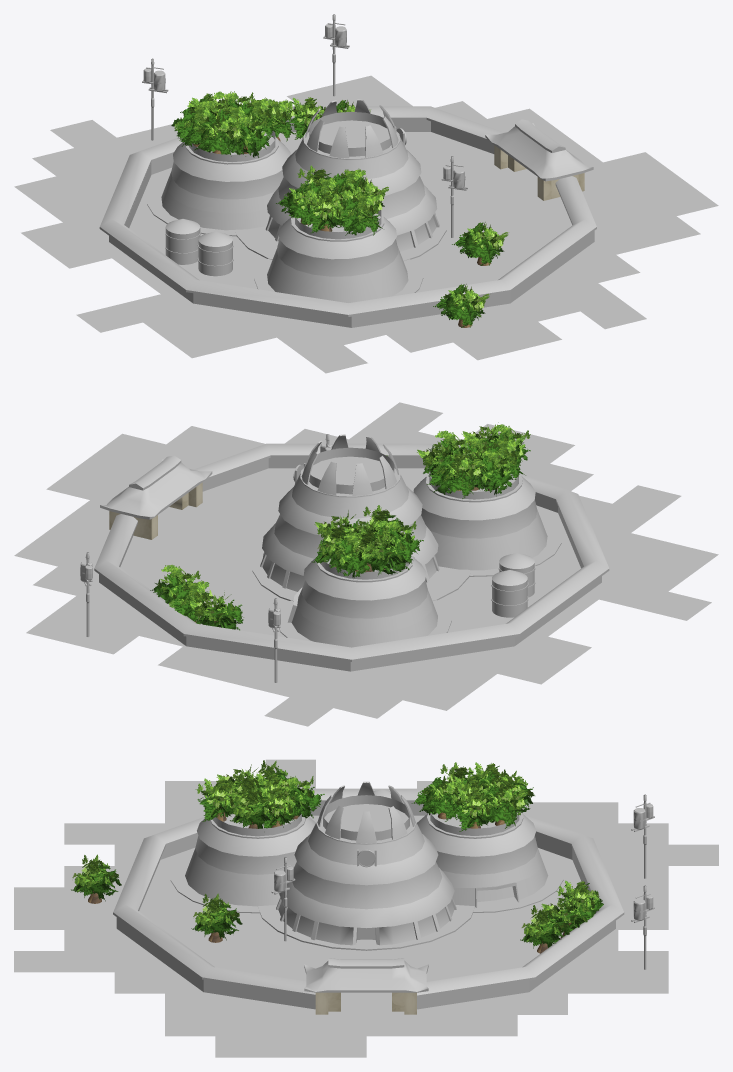
Rendered from Hokage_Office.fbx.
3 views of the same model, one above another, from view 1: azimuth 30°, elevation 25°; view 2: azimuth 150°, elevation 25°; view 3: azimuth 270°, elevation 25° (orthographic). The views are drawn at different scales.
Parts seen in each view (by area): view 1: polySurface162, Office, Wall, polySurface459, polySurface158, Silo1, Silo, polySurface465, polySurface464, polySurface318, polySurface324, polySurface325 (+5 smaller); view 2: polySurface162, Office, Wall, polySurface459, polySurface158, Silo, polySurface323, polySurface463, polySurface325, polySurface462, polySurface461, Silo1 (+5 smaller); view 3: polySurface162, Office, Wall, polySurface459, polySurface158, polySurface464, polySurface465, polySurface461, polySurface318, polySurface320, polySurface321, polySurface323 (+5 smaller).
Part boxes in pixels (x1,y1,x2,y2): polySurface162: [14, 75, 718, 373]; Office: [147, 99, 446, 302]; Wall: [99, 106, 596, 327]; polySurface459: [171, 91, 277, 157]; polySurface158: [485, 119, 593, 200]; Silo1: [197, 231, 233, 276]; Silo: [165, 219, 200, 264]; polySurface465: [433, 284, 489, 327]; polySurface464: [452, 222, 508, 265]; polySurface318: [337, 193, 382, 235]; polySurface324: [303, 191, 344, 233]; polySurface325: [276, 183, 321, 226]; polySurface162: [14, 402, 718, 726]; Office: [252, 434, 561, 647]; Wall: [94, 443, 609, 671]; polySurface459: [311, 505, 423, 577]; polySurface158: [100, 455, 212, 539]; Silo: [491, 570, 528, 617]; polySurface323: [427, 453, 482, 498]; polySurface463: [188, 592, 243, 630]; polySurface325: [471, 449, 517, 496]; polySurface462: [165, 580, 212, 622]; polySurface461: [150, 564, 200, 602]; Silo1: [498, 553, 535, 597]; polySurface162: [14, 759, 718, 1057]; Office: [170, 781, 563, 950]; Wall: [113, 788, 624, 1009]; polySurface459: [411, 762, 534, 831]; polySurface158: [304, 958, 428, 1014]; polySurface464: [191, 893, 242, 942]; polySurface465: [71, 854, 121, 903]; polySurface461: [520, 904, 569, 953]; polySurface318: [195, 778, 241, 821]; polySurface320: [230, 785, 280, 828]; polySurface321: [255, 786, 303, 828]; polySurface323: [273, 776, 324, 819].
Bounding box in the file's own units: 14 × 2.54 × 14.
